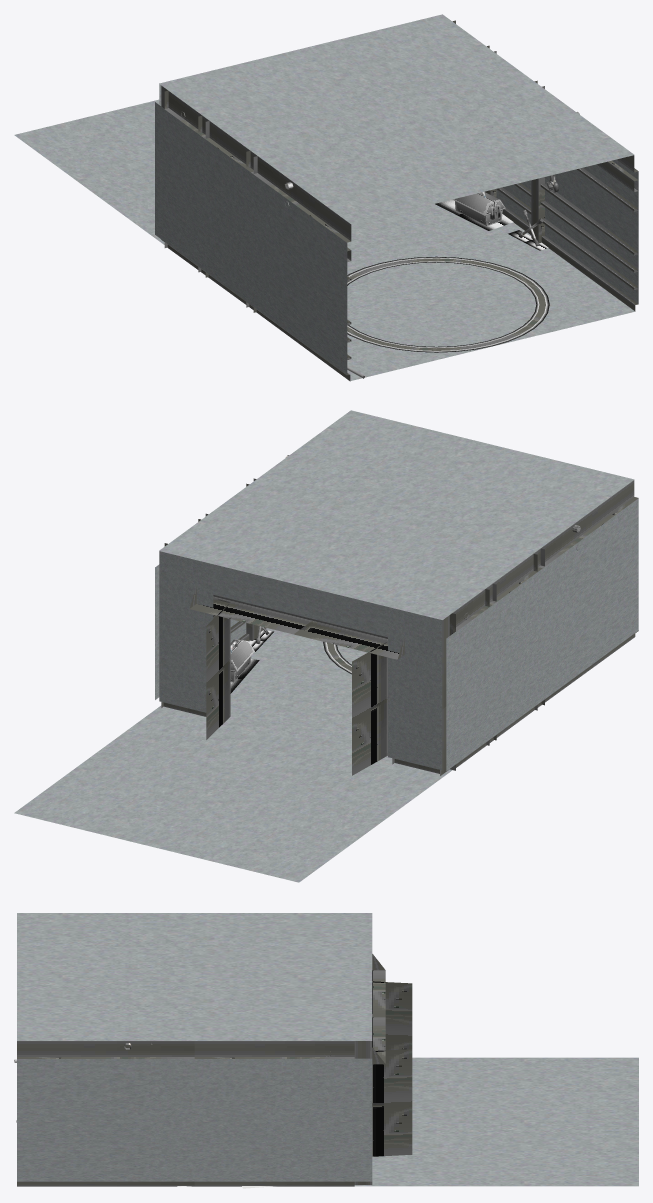
Rendered from garage.glb.
The picture shows the model from 3 angles, top to bottom: view 1: azimuth 30°, elevation 25°; view 2: azimuth 150°, elevation 25°; view 3: azimuth 270°, elevation 25°; orthographic projection. The views are drawn at different scales.
Visible parts, largest first — view 1: mesh_6_floor, mesh_4_fan_body, mesh_5_TurnTable_kage, mesh_0_BoxFuta1, mesh_1_kogu_shadow1; view 2: mesh_6_floor, mesh_4_fan_body, mesh_0_BoxFuta1; view 3: mesh_6_floor, mesh_4_fan_body.
Part boxes in pixels (bbox=[...]): mesh_6_floor: bbox=[14, 14, 638, 380]; mesh_4_fan_body: bbox=[161, 20, 638, 381]; mesh_5_TurnTable_kage: bbox=[347, 256, 549, 352]; mesh_0_BoxFuta1: bbox=[347, 181, 553, 378]; mesh_1_kogu_shadow1: bbox=[435, 199, 548, 250]; mesh_6_floor: bbox=[14, 410, 638, 882]; mesh_4_fan_body: bbox=[161, 478, 638, 775]; mesh_0_BoxFuta1: bbox=[230, 639, 254, 682]; mesh_6_floor: bbox=[17, 913, 638, 1186]; mesh_4_fan_body: bbox=[17, 954, 412, 1186].
Bounding box in the file's own units: 70.87 × 36.1 × 141.
Materials: 7 (7 with a texture image).
